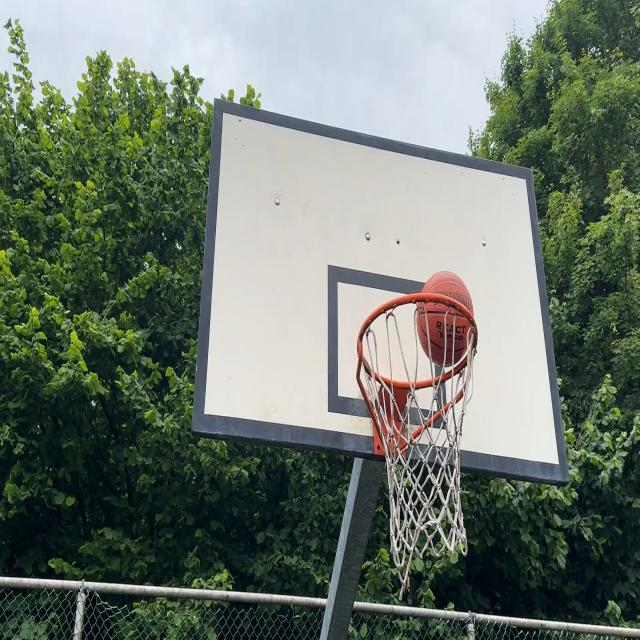rebound_hit: (414, 271, 476, 370)
